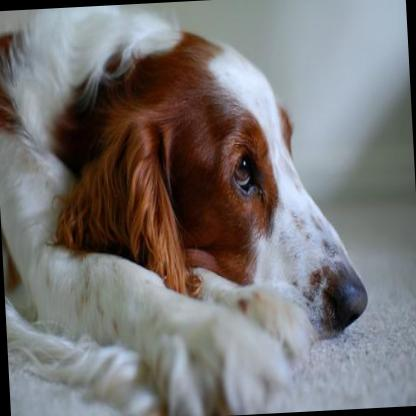Welsh_springer_spaniel: (0, 0, 370, 416)
